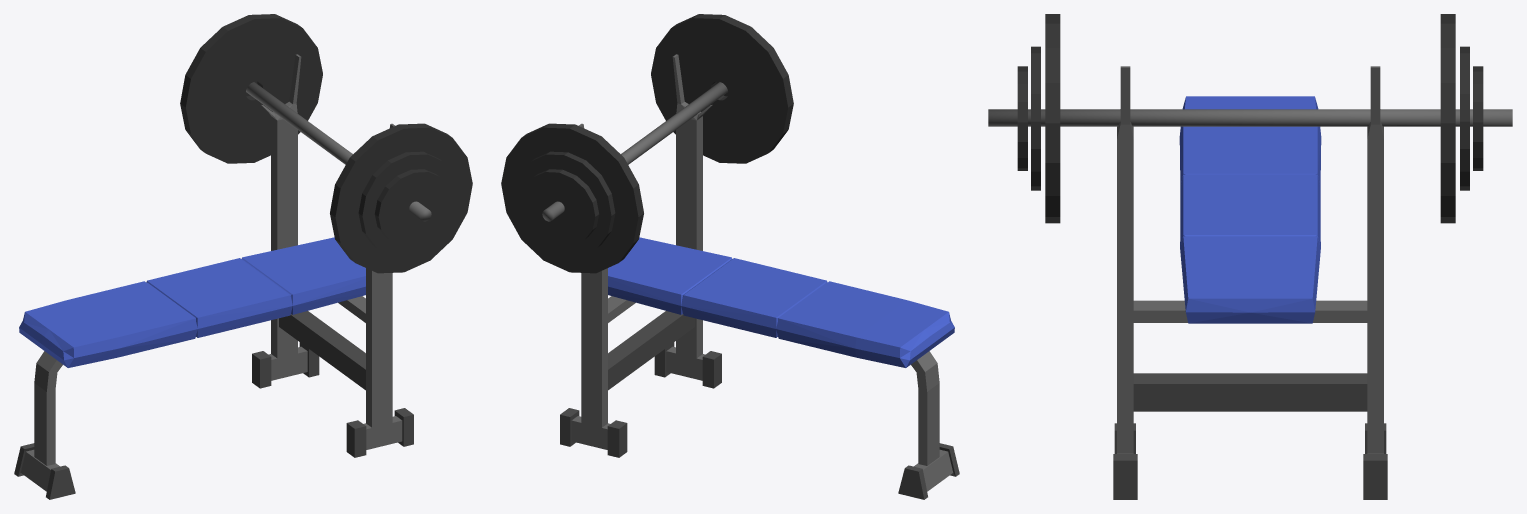
Rendered from benchpress.dae.
3 renders of one model, left to right at view 1: azimuth 30°, elevation 25°; view 2: azimuth 150°, elevation 25°; view 3: azimuth 270°, elevation 25°, orthographic. The views are drawn at different scales.
Visible parts, largest first — view 1: Bench Press; view 2: Bench Press; view 3: Bench Press.
Boxes of the visible parts, x1=… form: Bench Press: x1=14, y1=14, x2=472, y2=499; Bench Press: x1=501, y1=14, x2=959, y2=499; Bench Press: x1=988, y1=14, x2=1512, y2=499.
Size of the model in its own units: 5.29 by 5 by 4.77.
